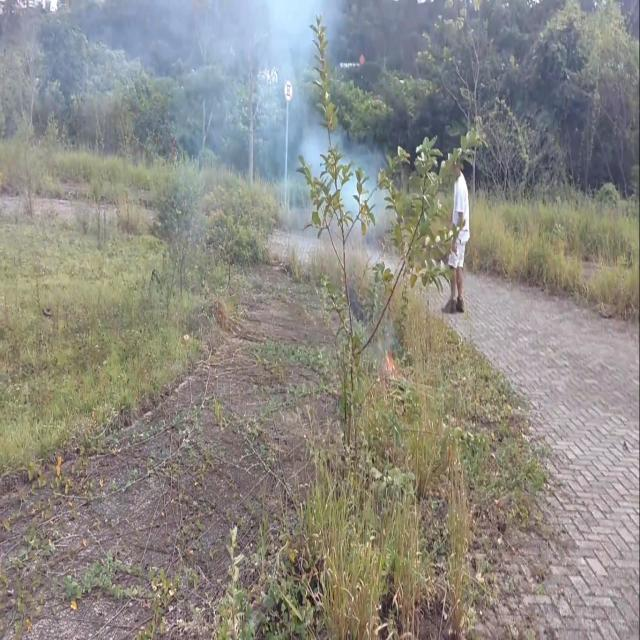Smoke: (172, 0, 398, 238)
